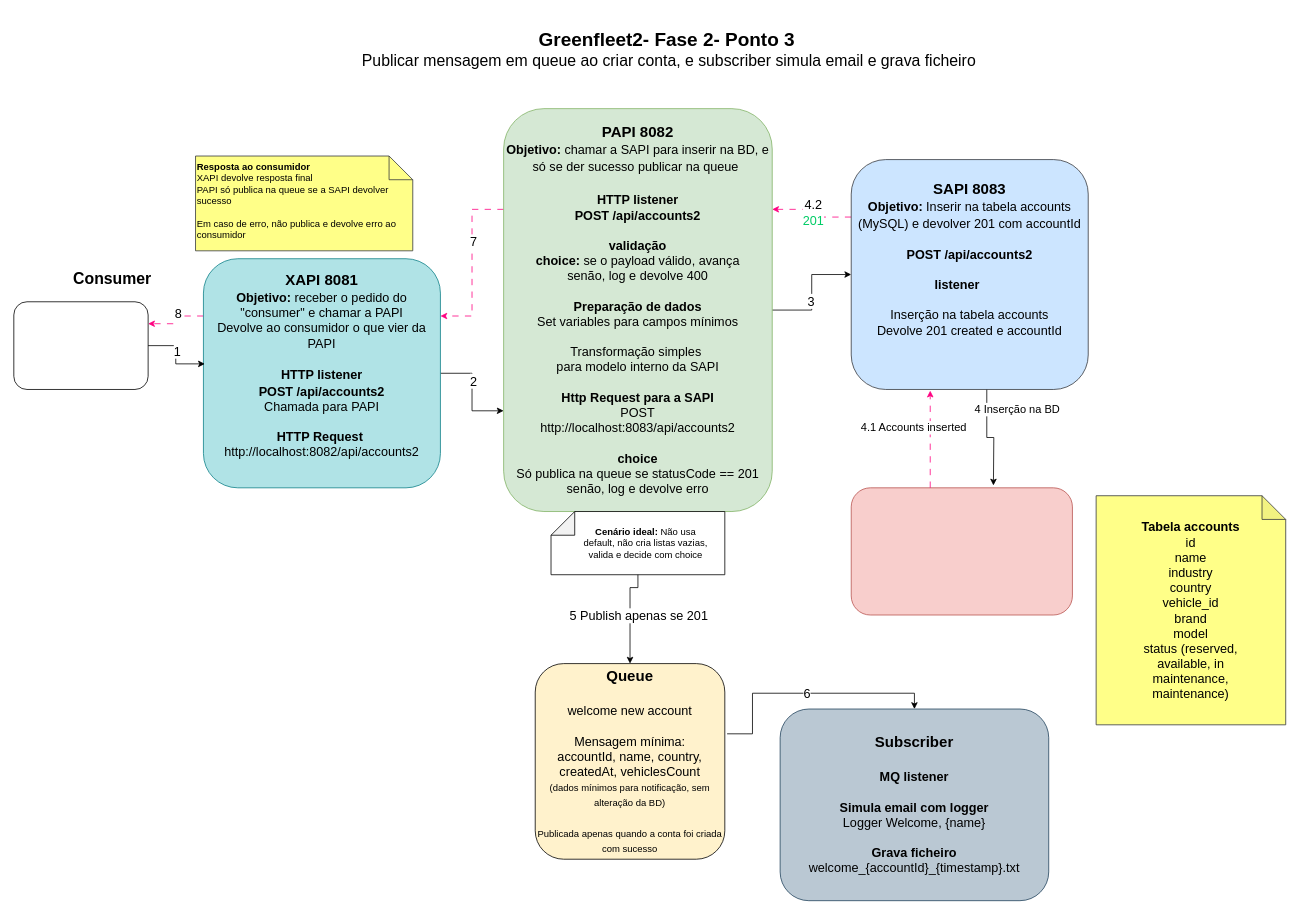
Some shapes in this 1300 by 915 pixel diagram are drawn without their labels. The centre of each missing label's shape, as x and y in pixels:
MySQL accounts: (x=961, y=551)
Postman Chamada 1 POST /api/accounts2: (x=80, y=345)
